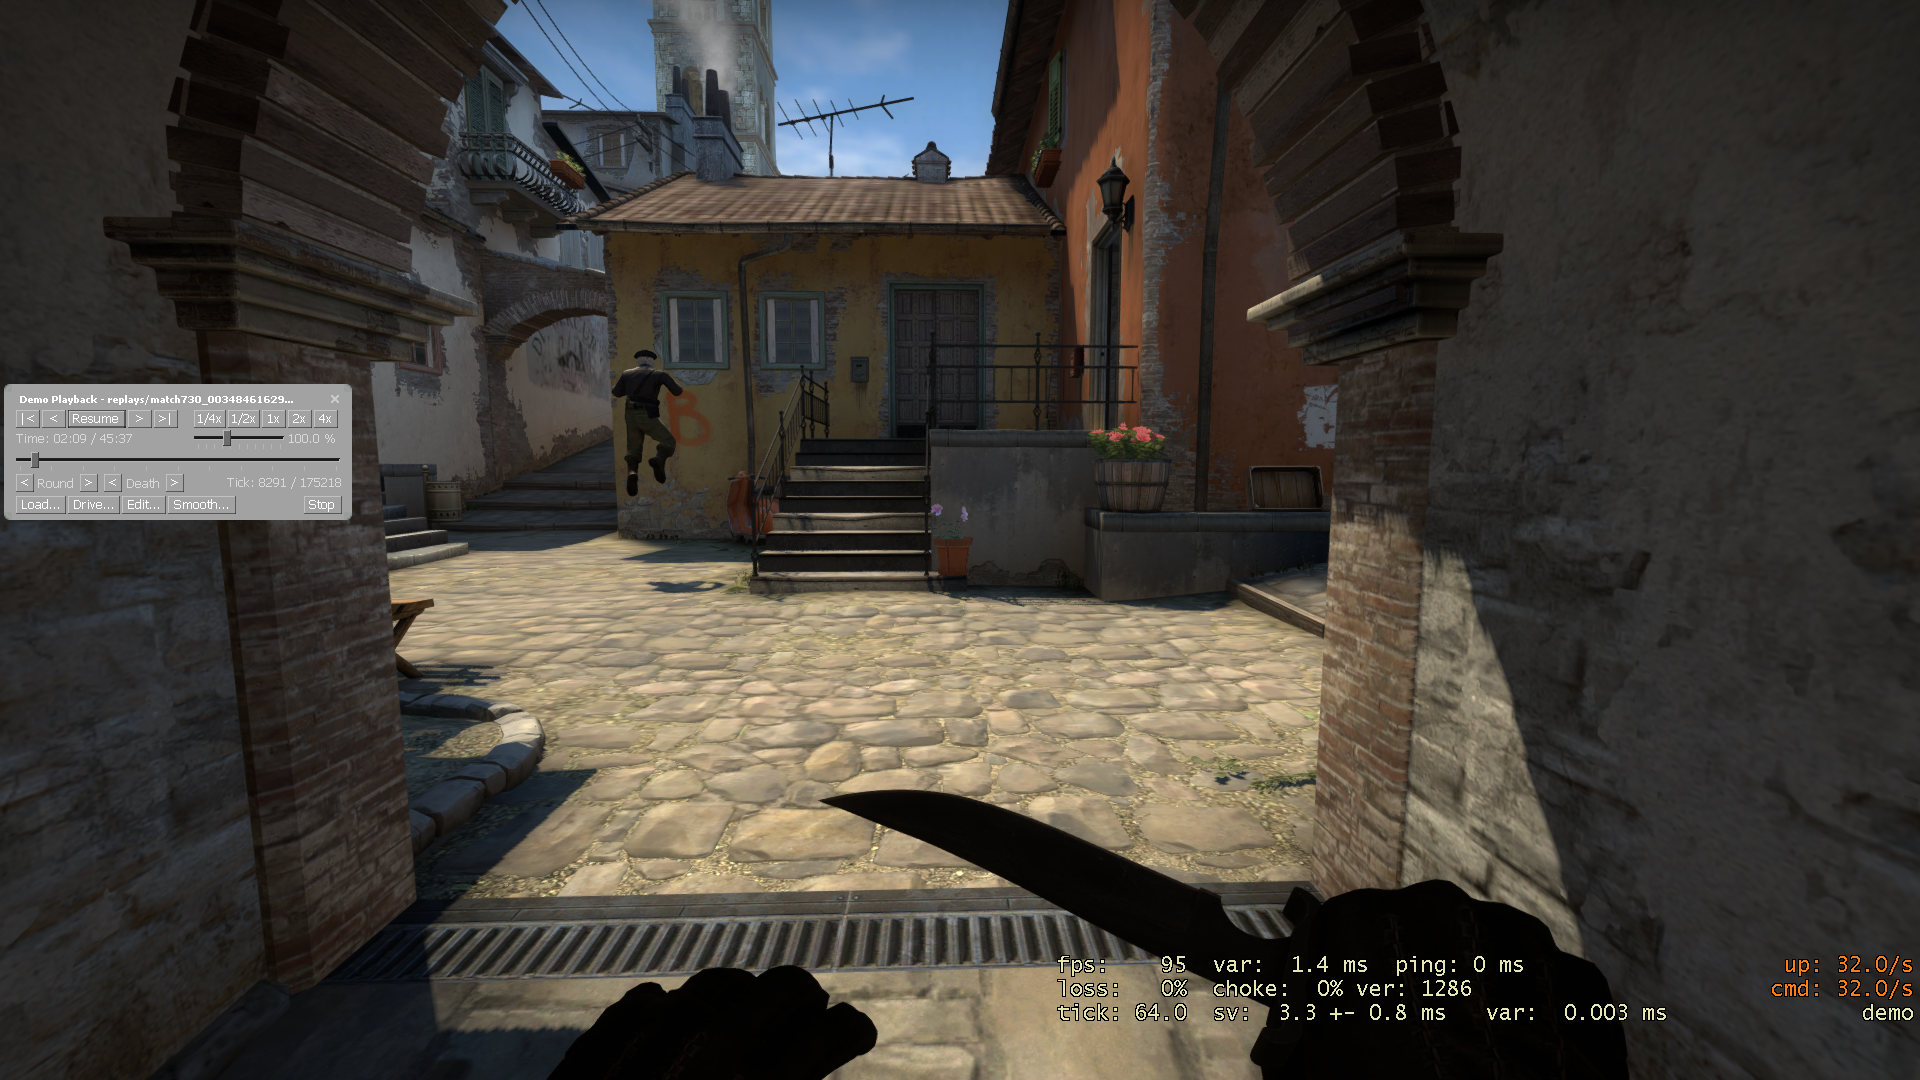t: (611, 349, 684, 496)
